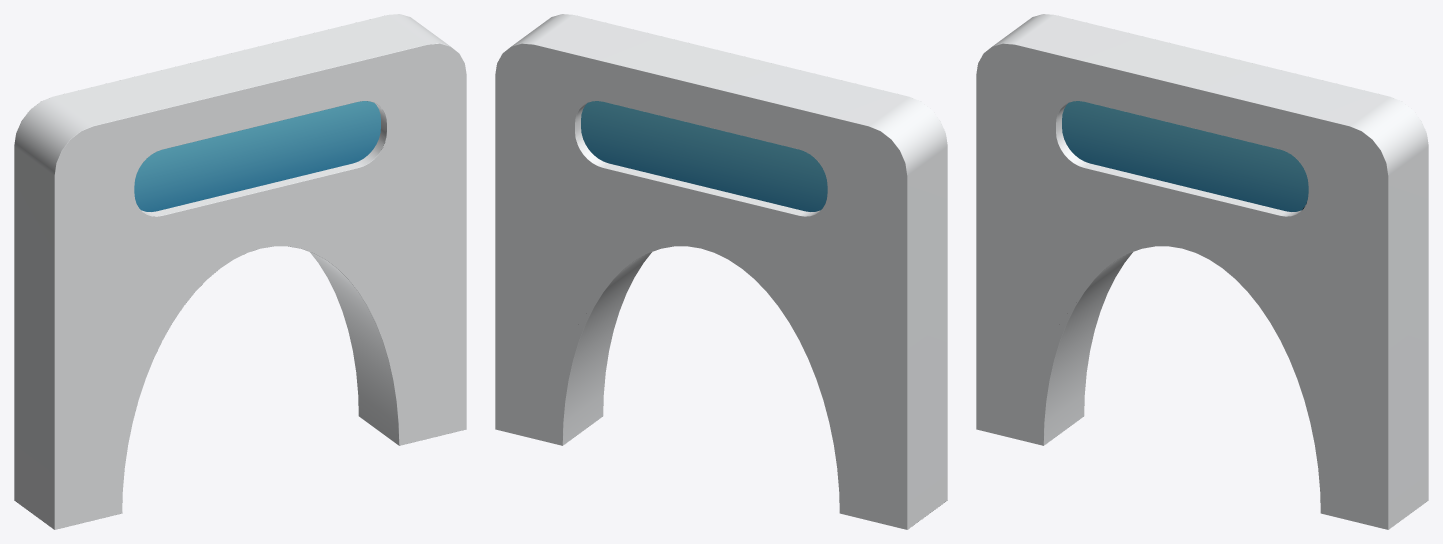
The model's file is Arch.fbx.
3 renders of one model, left to right at view 1: azimuth 30°, elevation 25°; view 2: azimuth 150°, elevation 25°; view 3: azimuth 330°, elevation 25°, orthographic.
Visible parts, largest first — view 1: Arch; view 2: Arch; view 3: Arch.
Boxes of the visible parts, <box> form: Arch: <box>14,14,466,529</box>; Arch: <box>495,14,947,529</box>; Arch: <box>976,14,1428,529</box>.
Size of the model in its own units: 2.35 by 2.15 by 0.4.
